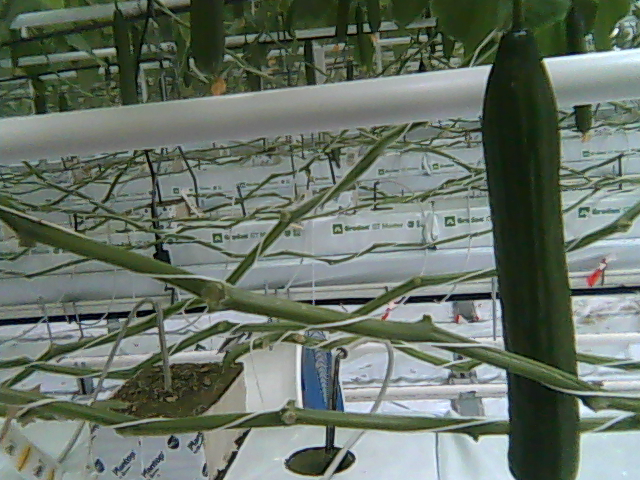concombre: (479, 8, 583, 479)
